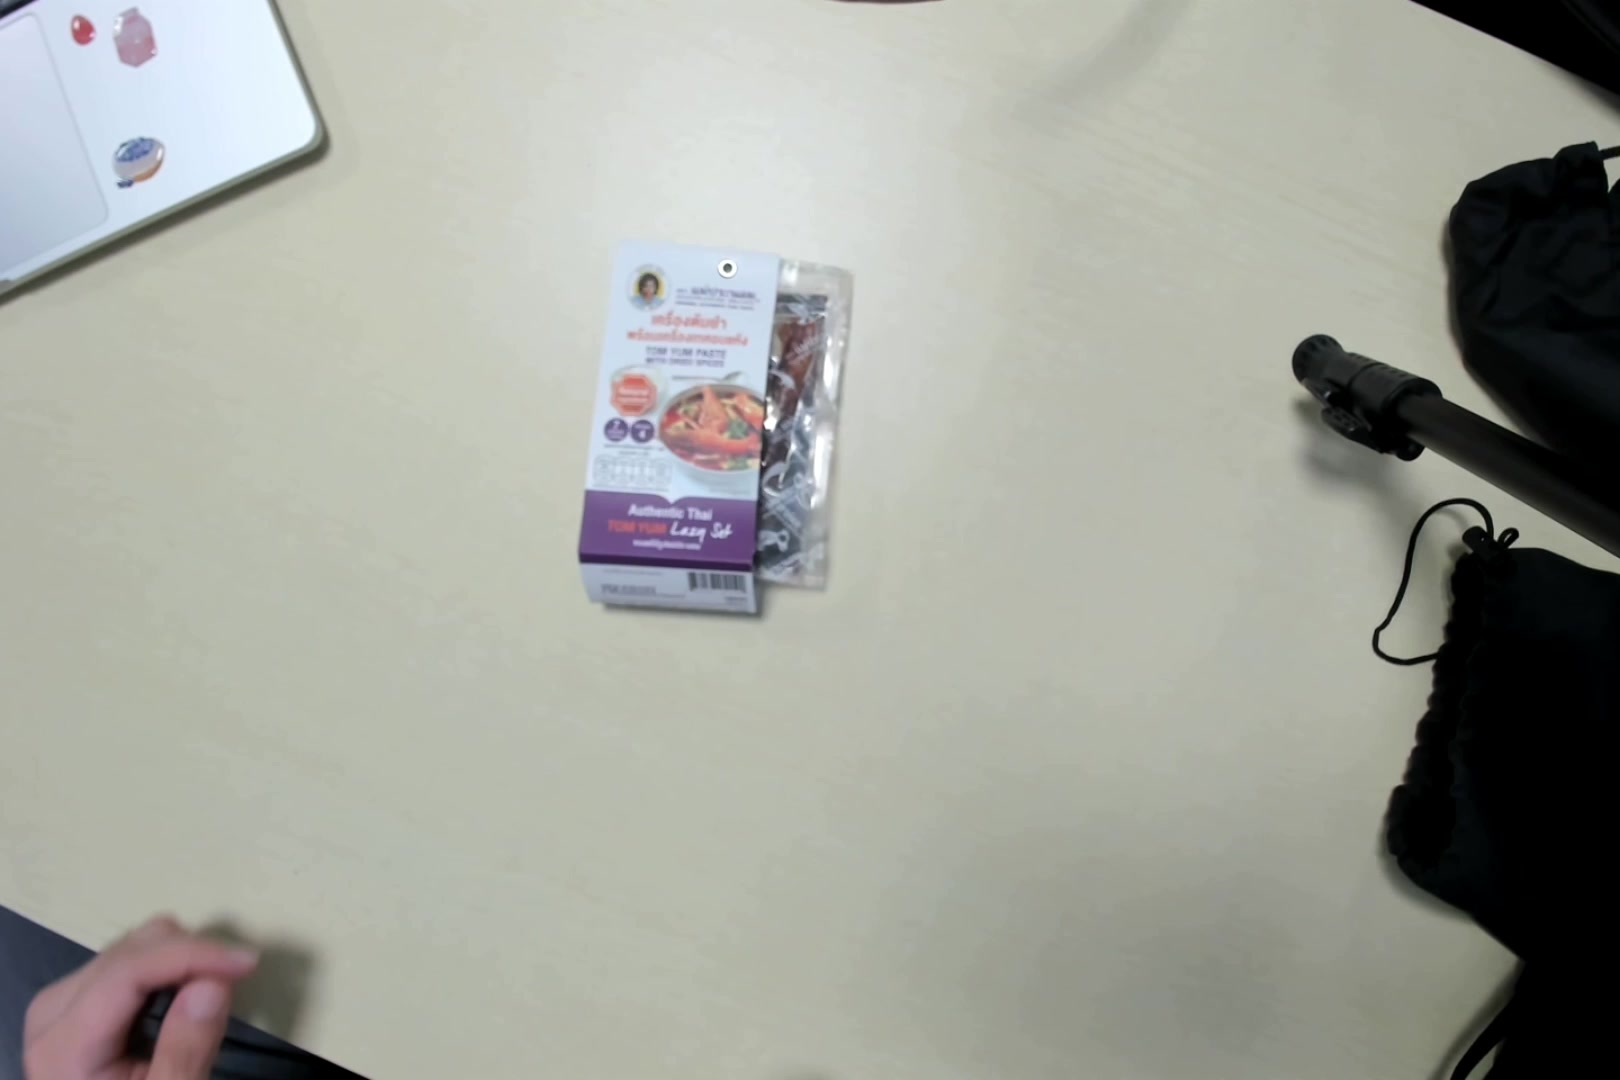OtherSauceDressingSoupBaswPaste_0-99g_Halal_NonHealthy: (582, 227, 853, 618)
